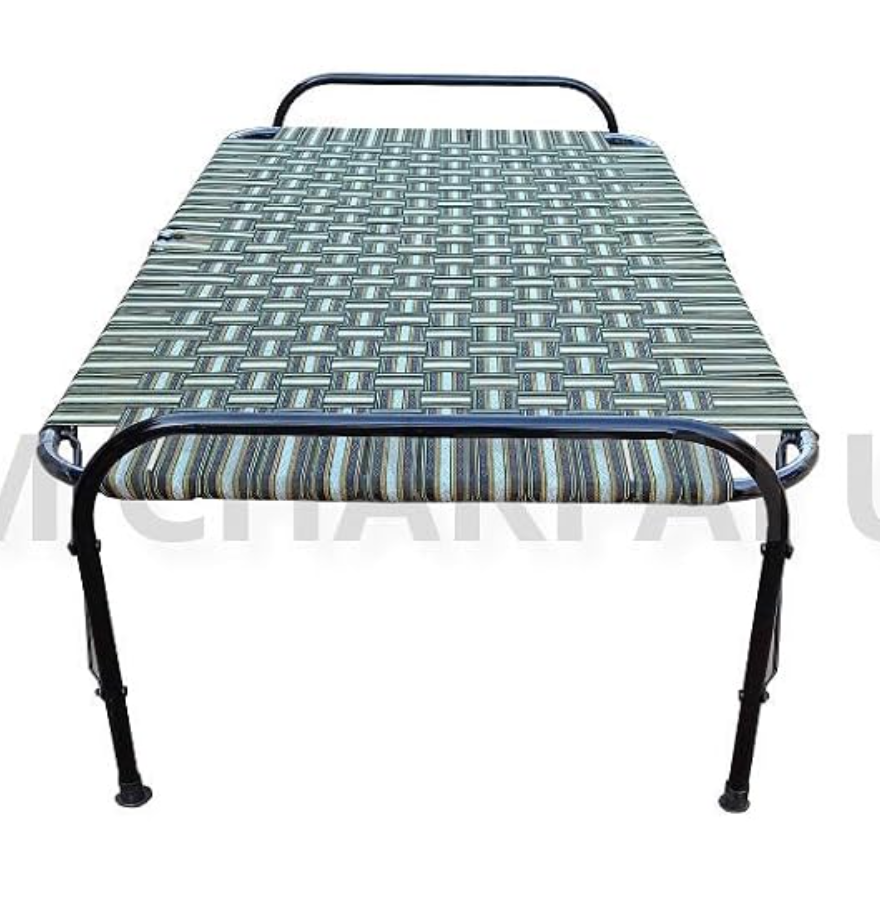cot: (30, 53, 819, 850)
